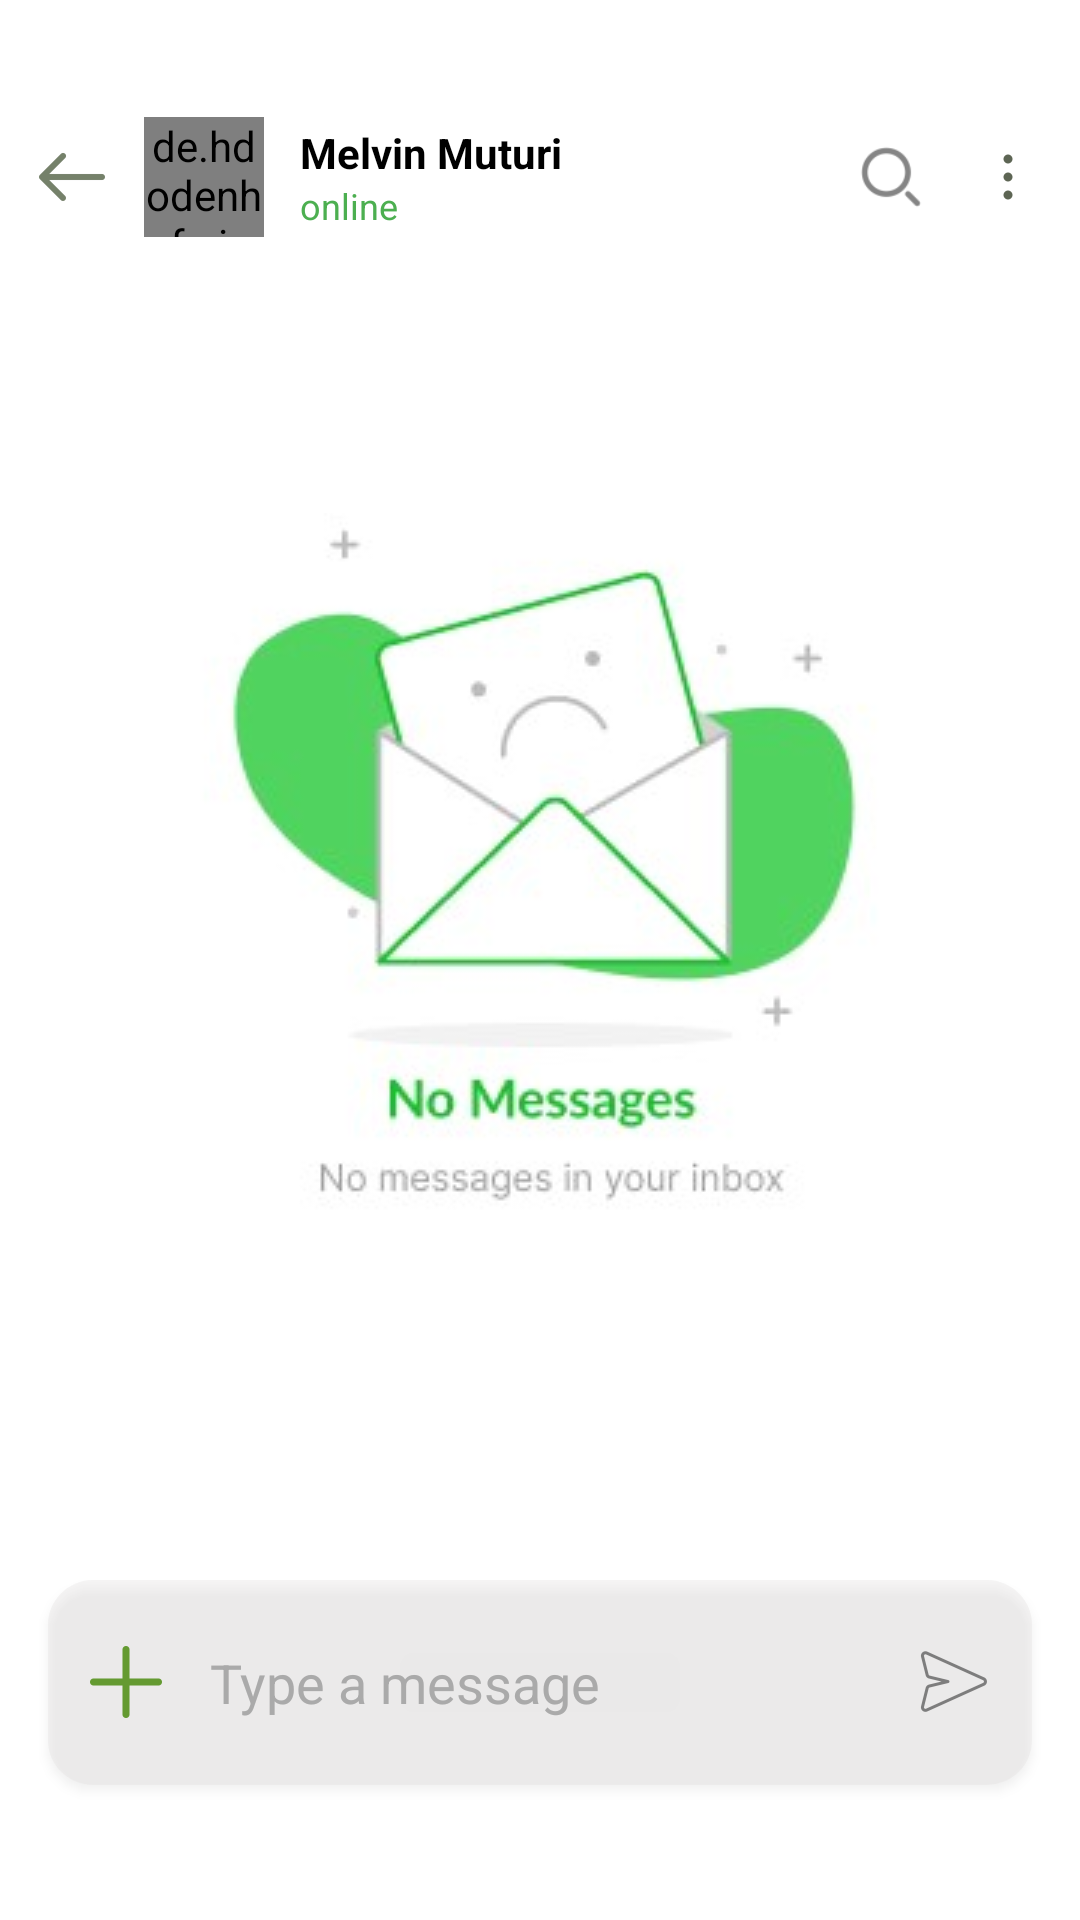

Icons on this 1080×1920 Android screen, each with the point to tap as point (x, y):
add: point (126, 1682)
back arrow: point (72, 177)
search: point (890, 176)
send: point (954, 1681)
